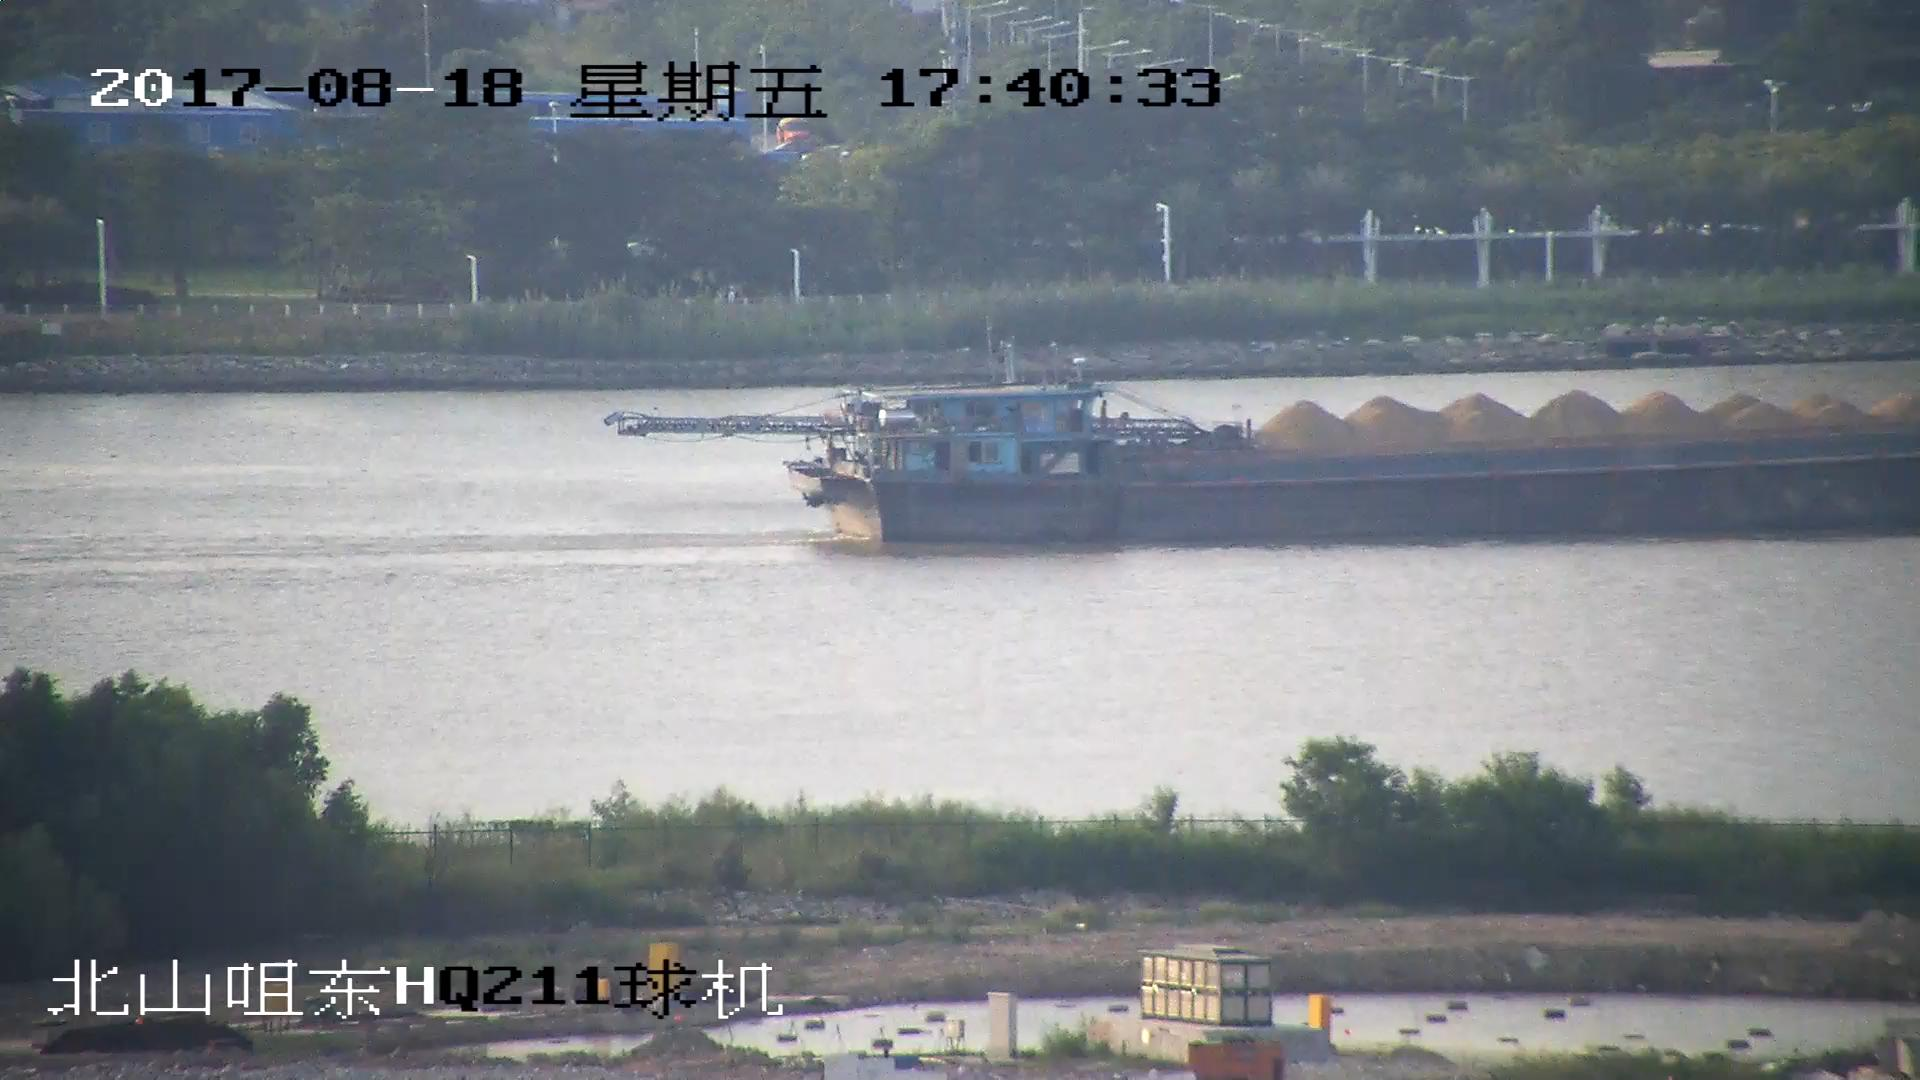bulk cargo carrier: (801, 398, 1920, 537)
ore carrier: (603, 384, 1920, 459)
